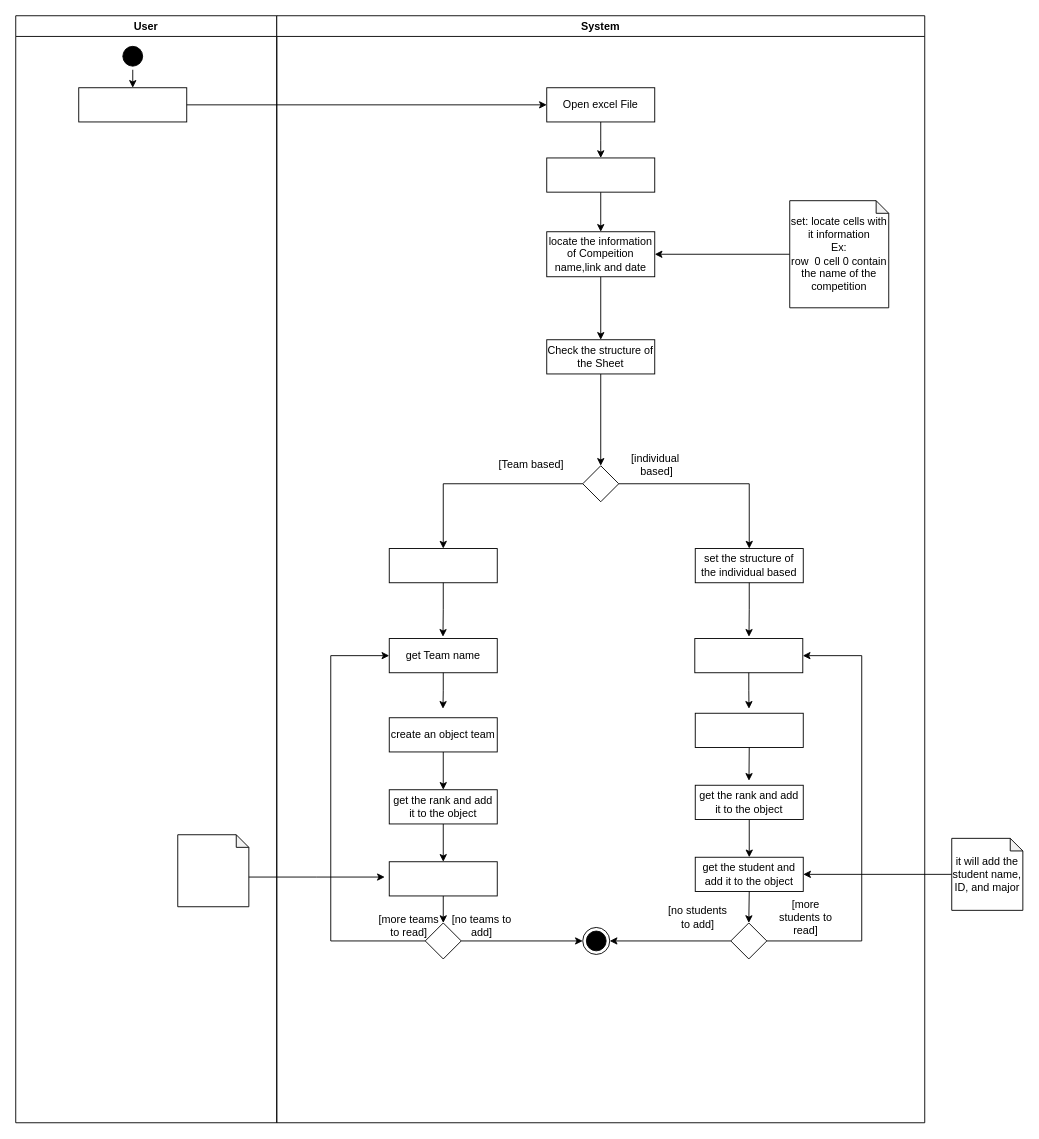
Image size: 1039x1139. Some labels were removed from this diagram. The centre of each missing label's shape, as x and y in pixels:
"create an object Student" goes at point (748, 729).
"get Student name" goes at point (748, 655).
"get the students team and add it to the object" goes at point (442, 878).
"it will add the student name ,ID, and major" goes at point (213, 870).
"Select the first Sheet" goes at point (600, 174).
"set the structure of the Team based" goes at point (442, 565).
"User Starts the Program" goes at point (132, 104).
